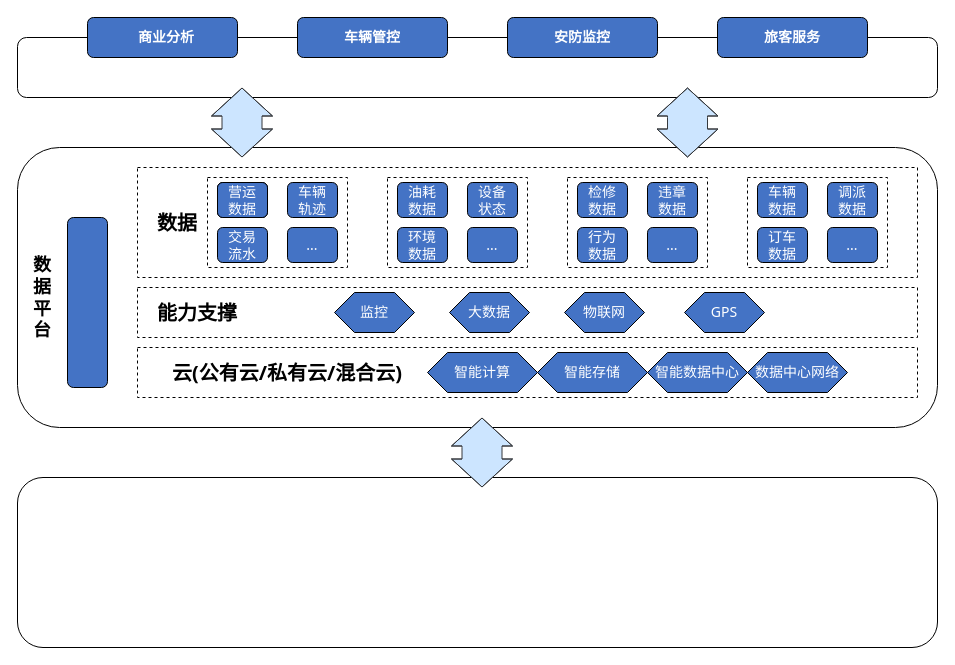
This 955x665 diagram has some shape labels left out. Here are the shapes that lost their labels. From the top down, the box of each, then its label:
(16, 36, 938, 98): 提供运营辅助决策
(66, 216, 108, 388): AI
(16, 476, 938, 648): 业务支撑中心
